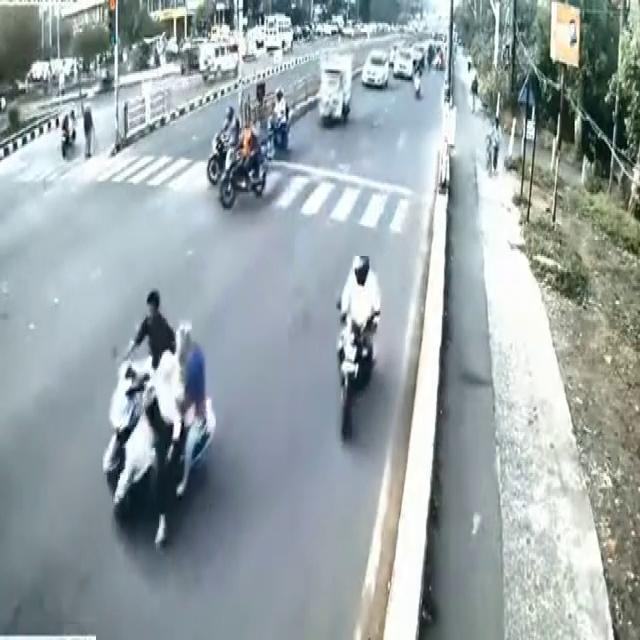accident: (91, 267, 243, 564)
